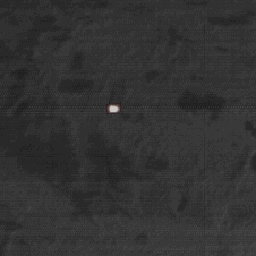Target: (107, 105, 120, 115)
